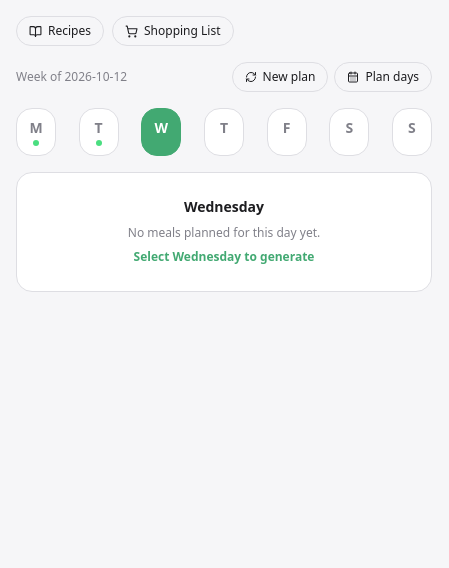
Test: PlanScreen day tabs › switches the visible meals when a day tab is clicked, including snacks
This screenshot has width=449, height=568.
Click the tab named "Monday" at x=36, y=132, box [16,108,56,156]
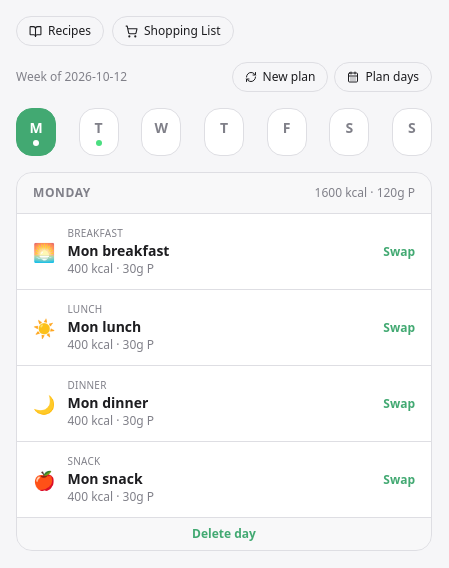
Expected: the text "Tue breakfast" is not shown
Now the text "Mon breakfast" is shown, box [68,241,170,260]
Now the text "Mon snack" is shown, box [68,469,143,488]
Click the tab named "Tuesday" at x=99, y=132, box [79,108,119,156]
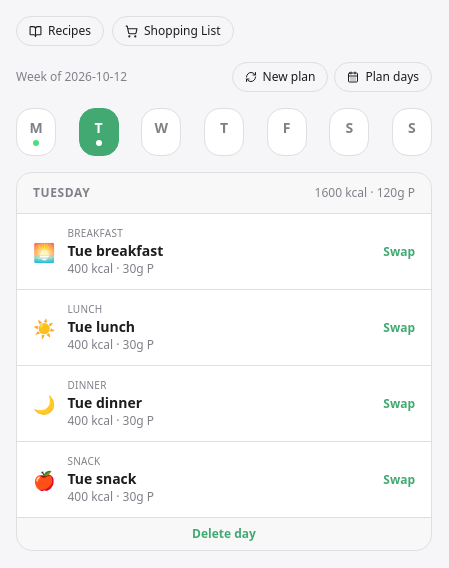
Now the text "Tue breakfast" is shown, box [68,241,163,260]
Now the text "Mon breakfast" is gone
